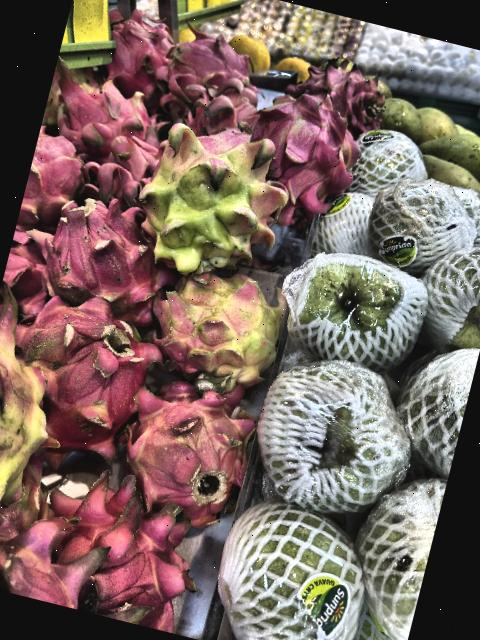buah-naga-belum-matang: (123, 110, 306, 294), (0, 279, 97, 564), (111, 362, 268, 530), (140, 262, 300, 399)
buah-naga-matang: (0, 281, 170, 476), (23, 466, 212, 634), (20, 188, 177, 330), (232, 73, 370, 224), (147, 22, 270, 136), (0, 501, 119, 615), (279, 44, 399, 142), (45, 65, 164, 159), (16, 122, 92, 238), (92, 4, 177, 95), (78, 123, 162, 208)
